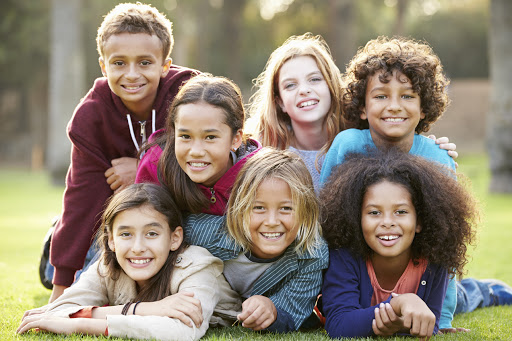person: (42, 3, 195, 279), (320, 153, 487, 336), (339, 33, 464, 198), (86, 182, 218, 338), (225, 151, 322, 331), (242, 30, 349, 182), (156, 73, 254, 213)
